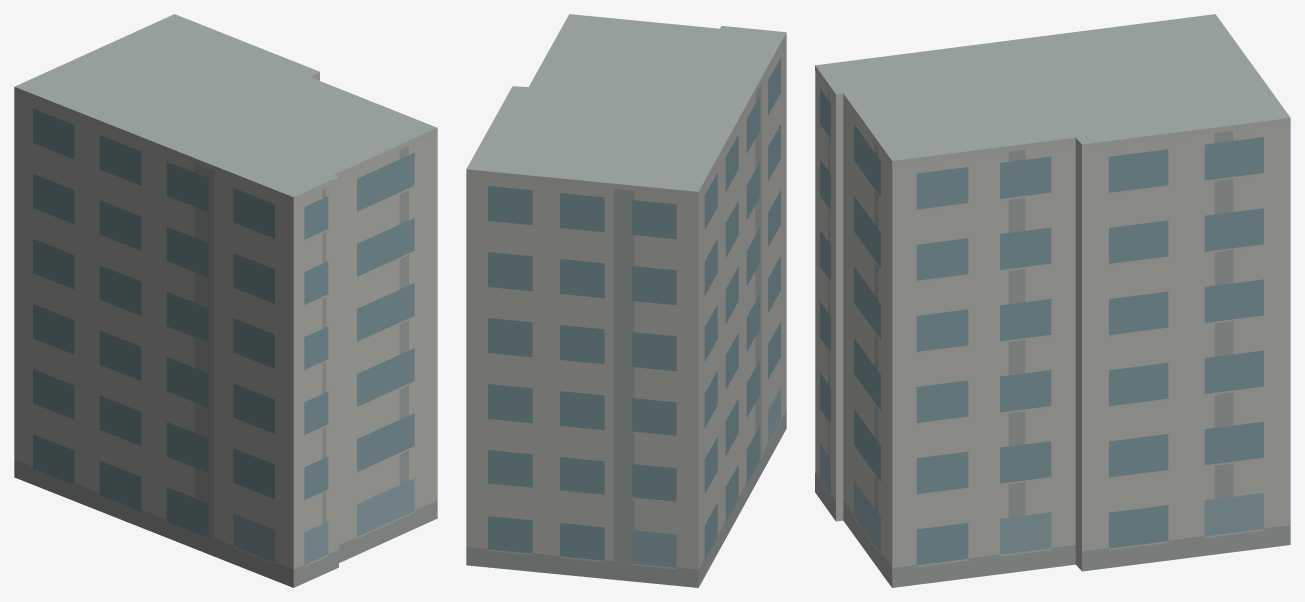
Rendered from survey-upis-32542245.glb.
3 views of the same model, side by side, from view 1: azimuth 30°, elevation 25°; view 2: azimuth 150°, elevation 25°; view 3: azimuth 270°, elevation 25° (orthographic). The views are drawn at different scales.
Visible parts, largest first — view 1: survey-upis-32542245.tmp; view 2: survey-upis-32542245.tmp; view 3: survey-upis-32542245.tmp.
Boxes of the visible parts, left/top/right/bottom form: survey-upis-32542245.tmp: left=14, top=14, right=437, bottom=587; survey-upis-32542245.tmp: left=466, top=14, right=786, bottom=587; survey-upis-32542245.tmp: left=815, top=14, right=1290, bottom=587.
Bounding box in the file's own units: 13.66 × 18.5 × 18.68.
